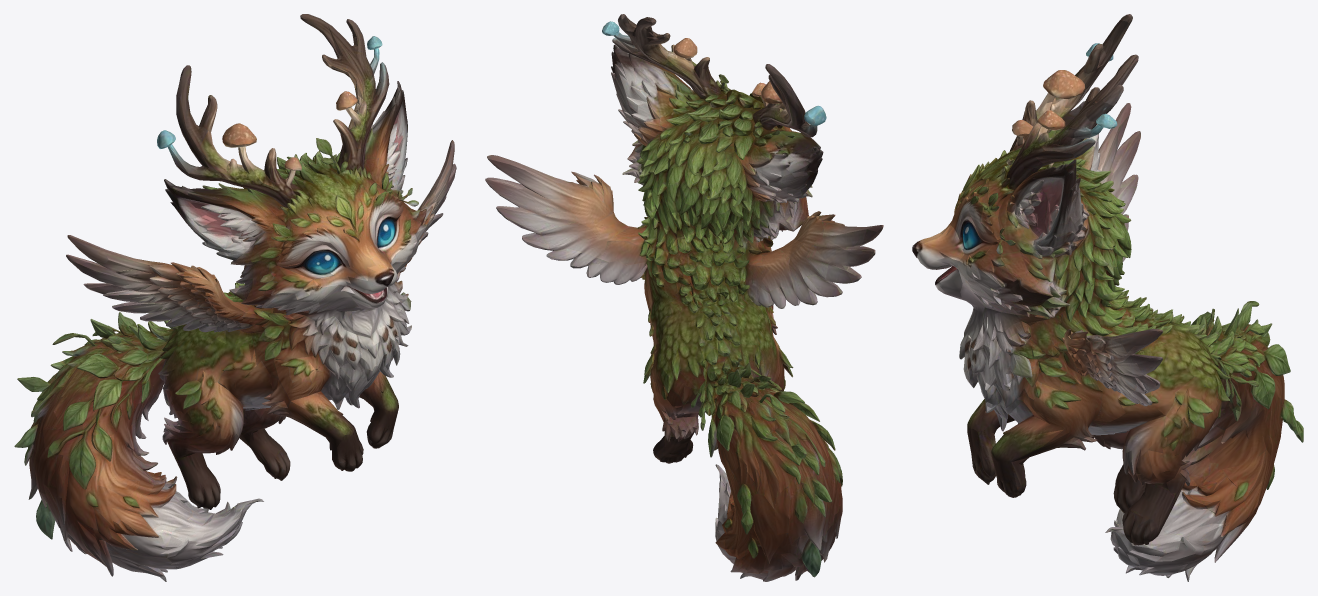
3 renders of one model, left to right at view 1: azimuth 30°, elevation 25°; view 2: azimuth 150°, elevation 25°; view 3: azimuth 270°, elevation 25°, orthographic. The views are drawn at different scales.
Visible parts, largest first — view 1: output_unwrapped; view 2: output_unwrapped; view 3: output_unwrapped.
Part boxes in pixels (left/top/right/bottom): output_unwrapped: left=14, top=14, right=456, bottom=581; output_unwrapped: left=485, top=14, right=883, bottom=581; output_unwrapped: left=912, top=14, right=1303, bottom=581.
Bounding box in the file's own units: 1.48 × 1.9 × 1.14.
1 material, 1 textured.
